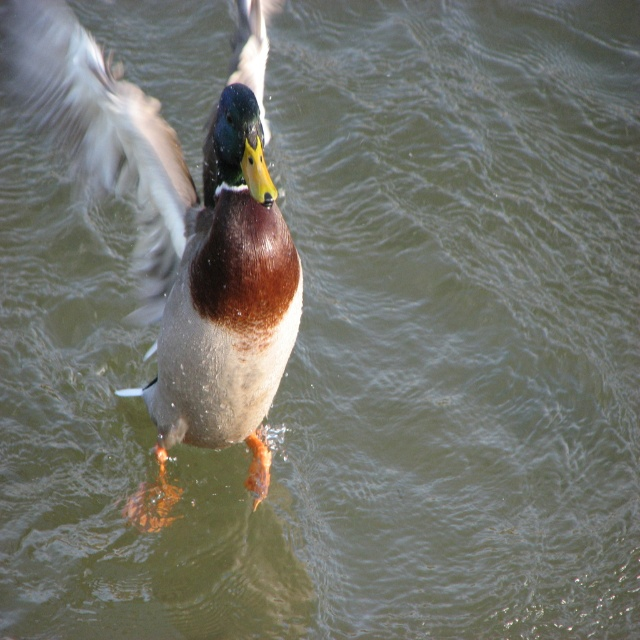Duck: (0, 0, 307, 527)
